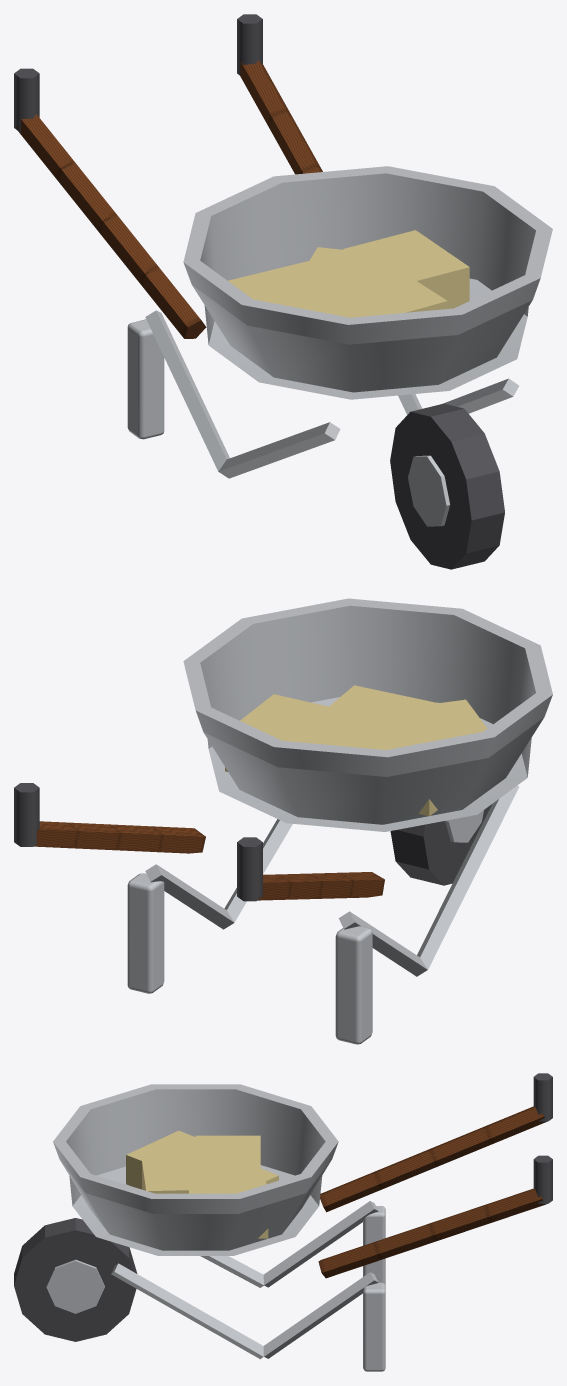
The model's file is halloween-slasher-street-wheelbarrow-fd8d105e__27295.glb.
3 views of the same model, one above another, from view 1: azimuth 30°, elevation 25°; view 2: azimuth 150°, elevation 25°; view 3: azimuth 270°, elevation 25° (orthographic). The views are drawn at different scales.
Parts seen in each view (by area): view 1: wheelbarrow, wheel-front/dark, wheel-front/metal; view 2: wheelbarrow, wheel-front/dark, wheel-front/metal; view 3: wheelbarrow, wheel-front/dark, wheel-front/metal.
Boxes of the visible parts, bbox=[...] form: wheelbarrow: bbox=[14, 14, 552, 478]; wheel-front/dark: bbox=[390, 403, 504, 569]; wheel-front/metal: bbox=[408, 455, 449, 526]; wheelbarrow: bbox=[14, 598, 552, 1044]; wheel-front/dark: bbox=[390, 804, 491, 885]; wheel-front/metal: bbox=[445, 810, 483, 842]; wheelbarrow: bbox=[53, 1073, 552, 1371]; wheel-front/dark: bbox=[14, 1218, 137, 1341]; wheel-front/metal: bbox=[46, 1259, 104, 1313].
Size of the model in its own units: 0.8369 by 0.74 by 1.66.
4 materials, 1 textured.
